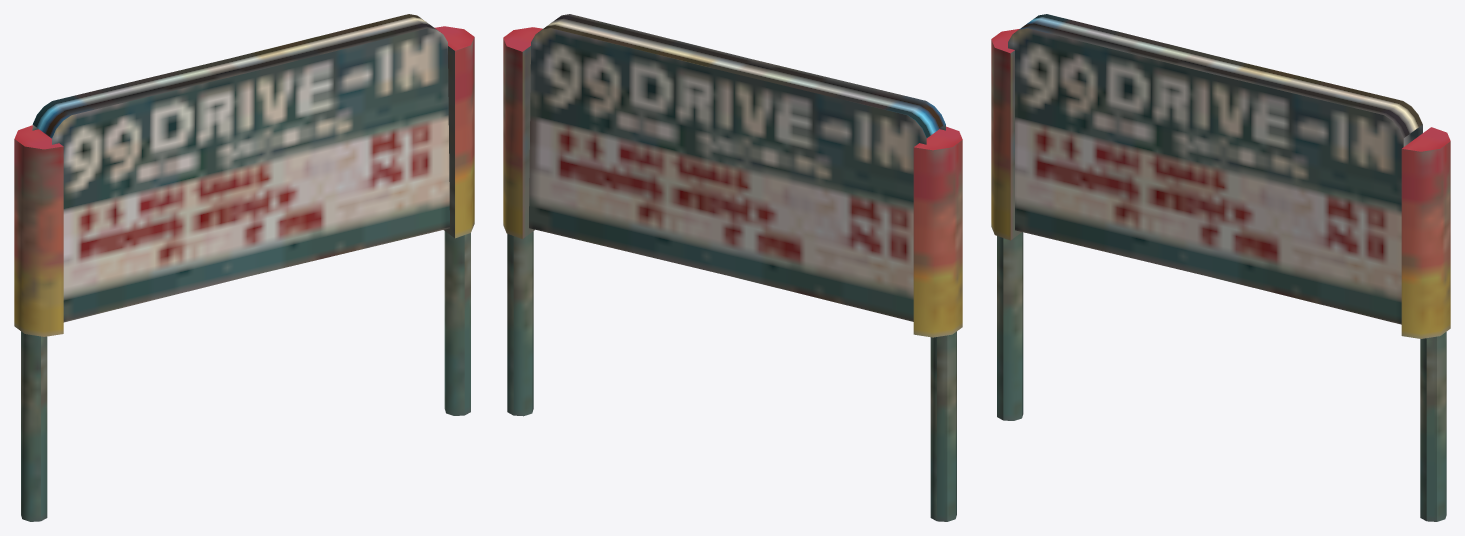
The model's file is USA - Base Building - Drive In Sign - CBDriveInM.glb.
3 views of the same model, side by side, from view 1: azimuth 30°, elevation 25°; view 2: azimuth 150°, elevation 25°; view 3: azimuth 330°, elevation 25° (orthographic).
Visible parts, largest first — view 1: CBDRIVEINM; view 2: CBDRIVEINM; view 3: CBDRIVEINM.
Boxes of the visible parts, <box> form: CBDRIVEINM: <box>14,14,474,521</box>; CBDRIVEINM: <box>503,14,962,521</box>; CBDRIVEINM: <box>991,14,1450,521</box>.
Bounding box in the file's own units: 55.49 × 47.38 × 6.36.
Materials: 1 (1 with a texture image).
